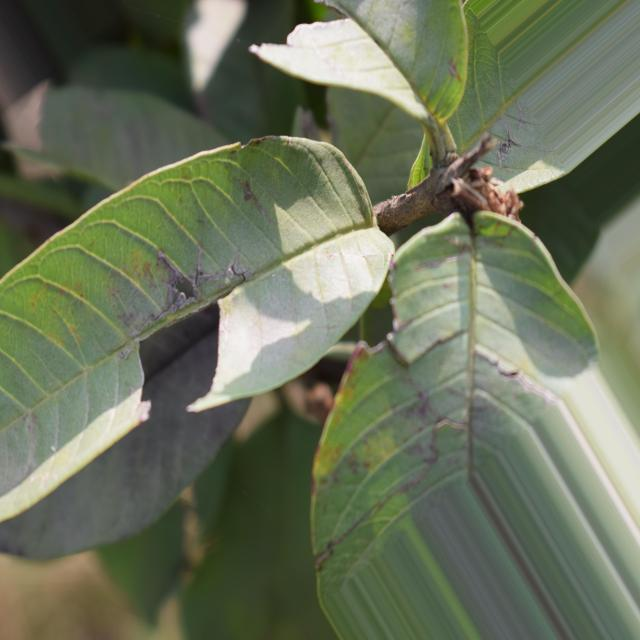Mummification: (0, 137, 394, 521), (314, 212, 598, 591)
